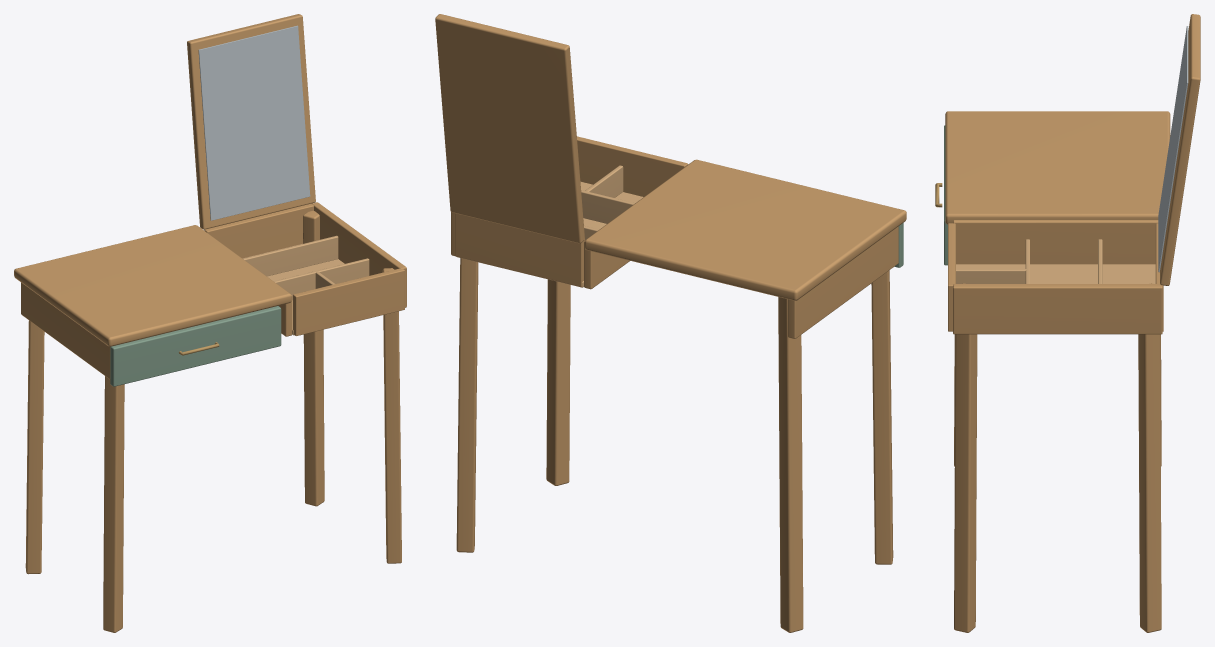
Rendered from dressing-table.glb.
3 views of the same model, side by side, from view 1: azimuth 30°, elevation 25°; view 2: azimuth 150°, elevation 25°; view 3: azimuth 270°, elevation 25° (orthographic). The views are drawn at different scales.
Visible parts, largest first — view 1: dressing-table authored assembly; view 2: dressing-table authored assembly; view 3: dressing-table authored assembly.
Part boxes in pixels (x1,y1,x2,y2): dressing-table authored assembly: (14, 14, 406, 632); dressing-table authored assembly: (435, 14, 906, 632); dressing-table authored assembly: (935, 14, 1200, 632).
Bounding box in the file's own units: 0.8 × 1.2 × 0.52.
